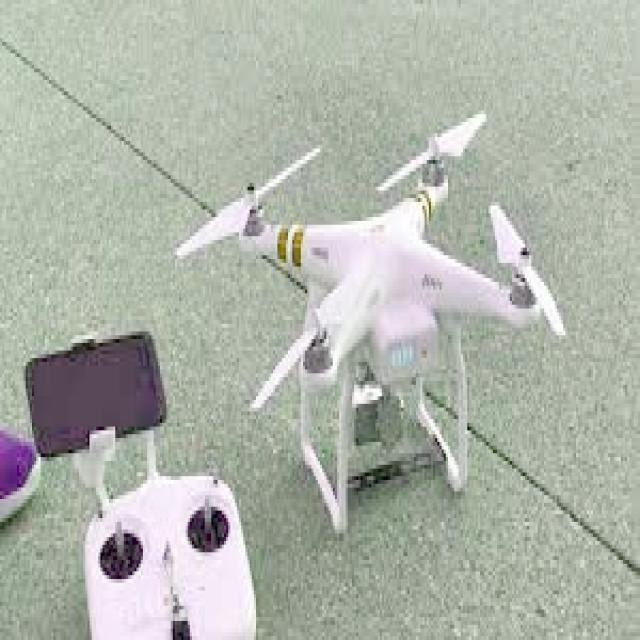drone: (169, 110, 572, 519)
